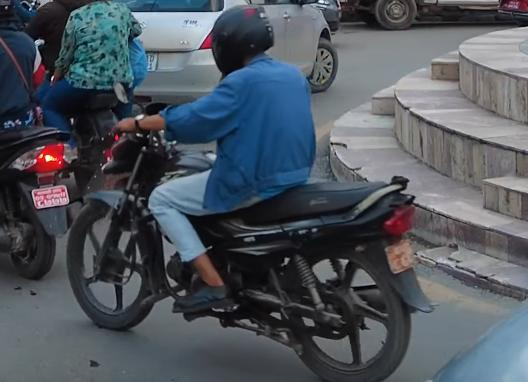bike: (59, 100, 441, 382)
